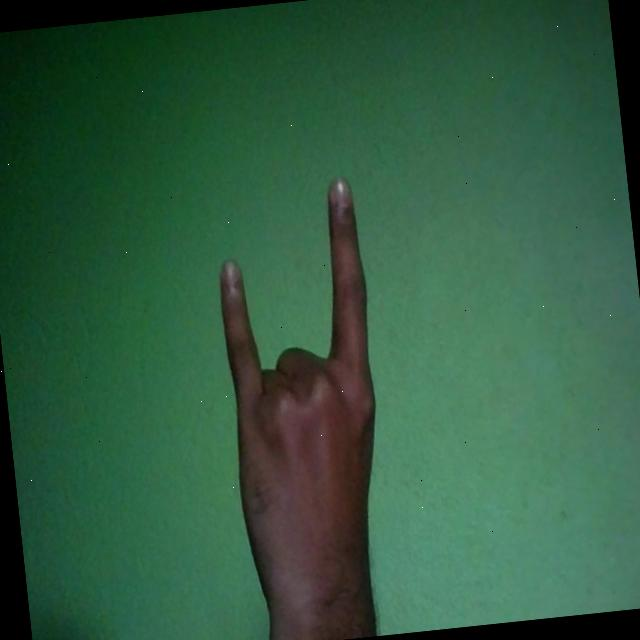open Plam: (208, 172, 403, 640)
